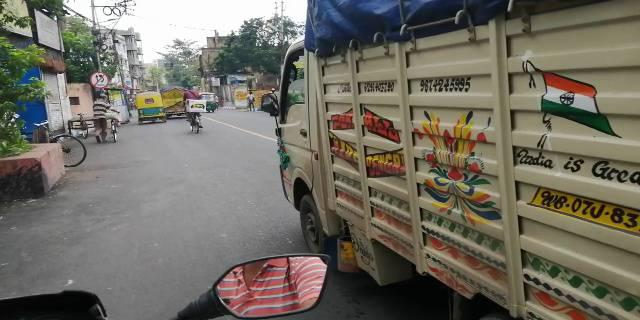Autorickshaw: (135, 88, 165, 124)
Cycle: (179, 82, 210, 136), (102, 105, 125, 143)
Minitruck: (261, 10, 640, 320)
